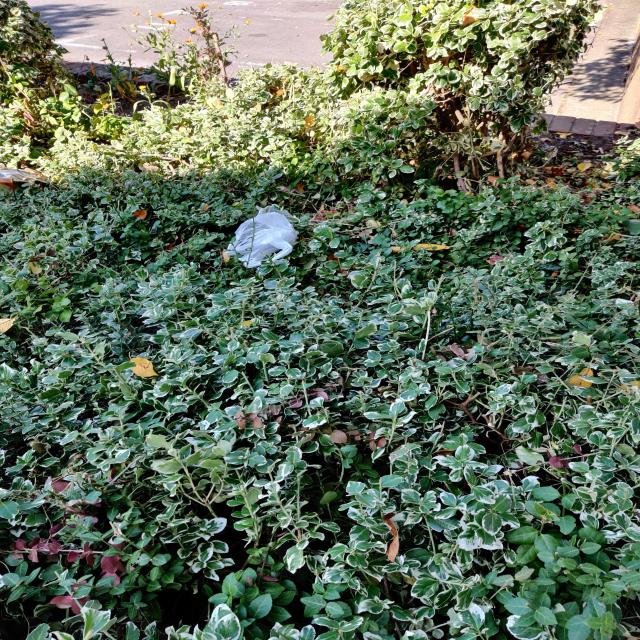litter: (228, 213, 296, 268)
